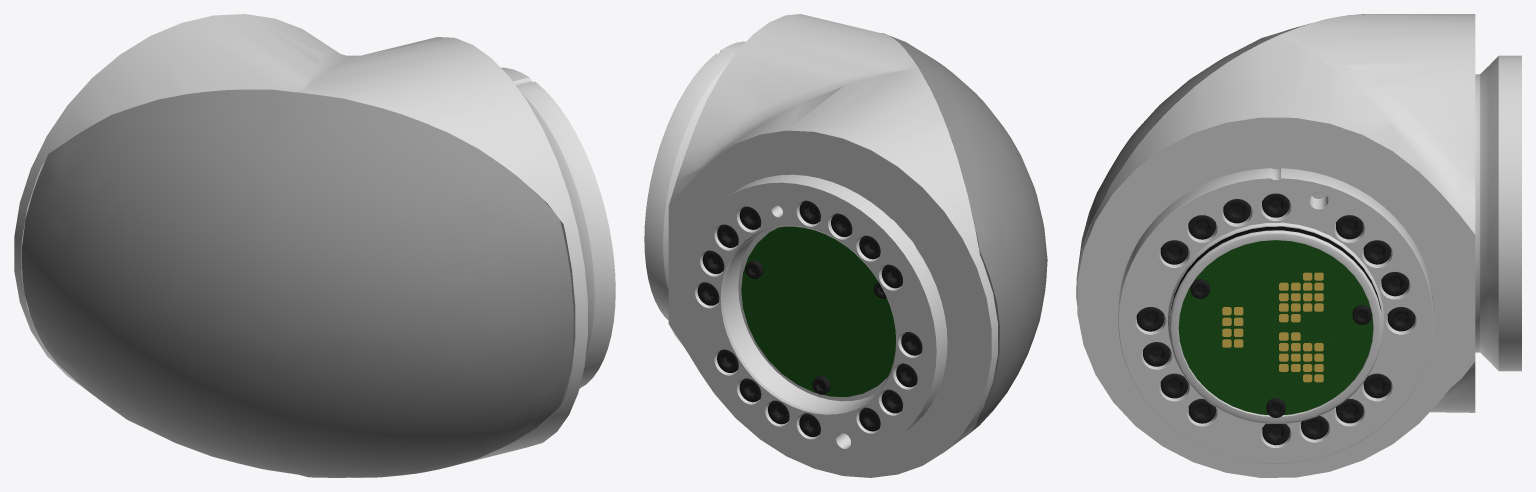
3 views of the same model, side by side, from view 1: azimuth 30°, elevation 25°; view 2: azimuth 150°, elevation 25°; view 3: azimuth 270°, elevation 25° (orthographic). The views are drawn at different scales.
Visible parts, largest first — view 1: L86-55.001; view 2: L86-55.001; view 3: L86-55.001.
Part boxes in pixels (x1,y1,x2,y2): L86-55.001: [14, 14, 615, 477]; L86-55.001: [644, 14, 1047, 477]; L86-55.001: [1076, 14, 1521, 477].
Size of the model in its own units: 0.1026 by 0.0862 by 0.0961.
